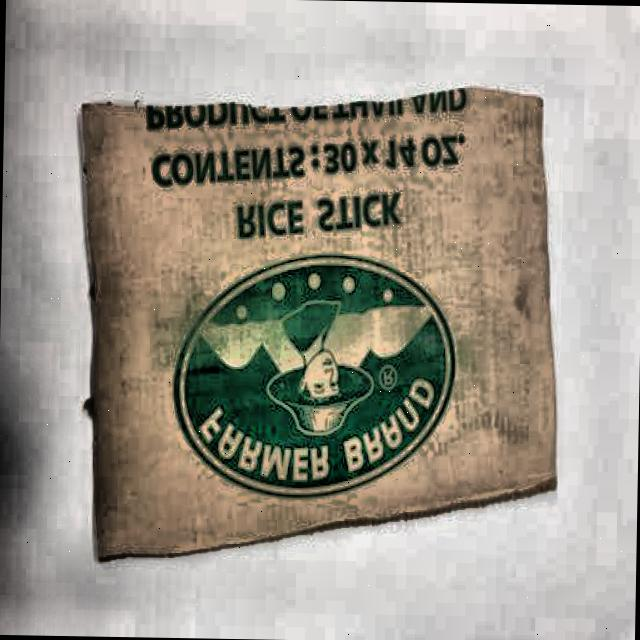cardboard: (73, 76, 566, 572)
